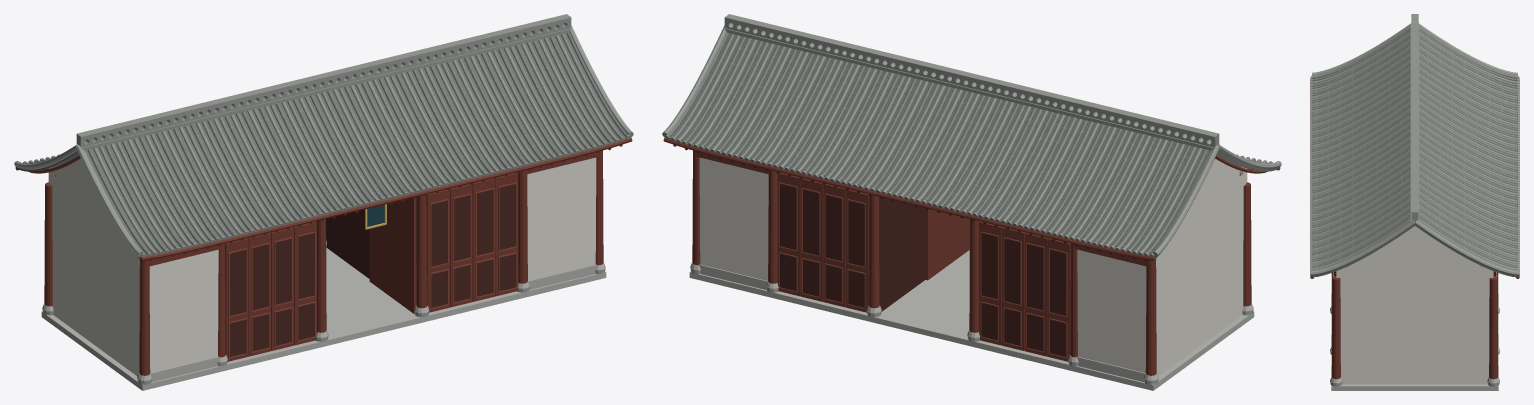
The model's file is chongming-ji-gate-web.glb.
The picture shows the model from 3 angles, left to right: view 1: azimuth 30°, elevation 25°; view 2: azimuth 150°, elevation 25°; view 3: azimuth 270°, elevation 25°; orthographic projection. The views are drawn at different scales.
Size of the model in its own units: 18.7 by 8 by 8.26.
